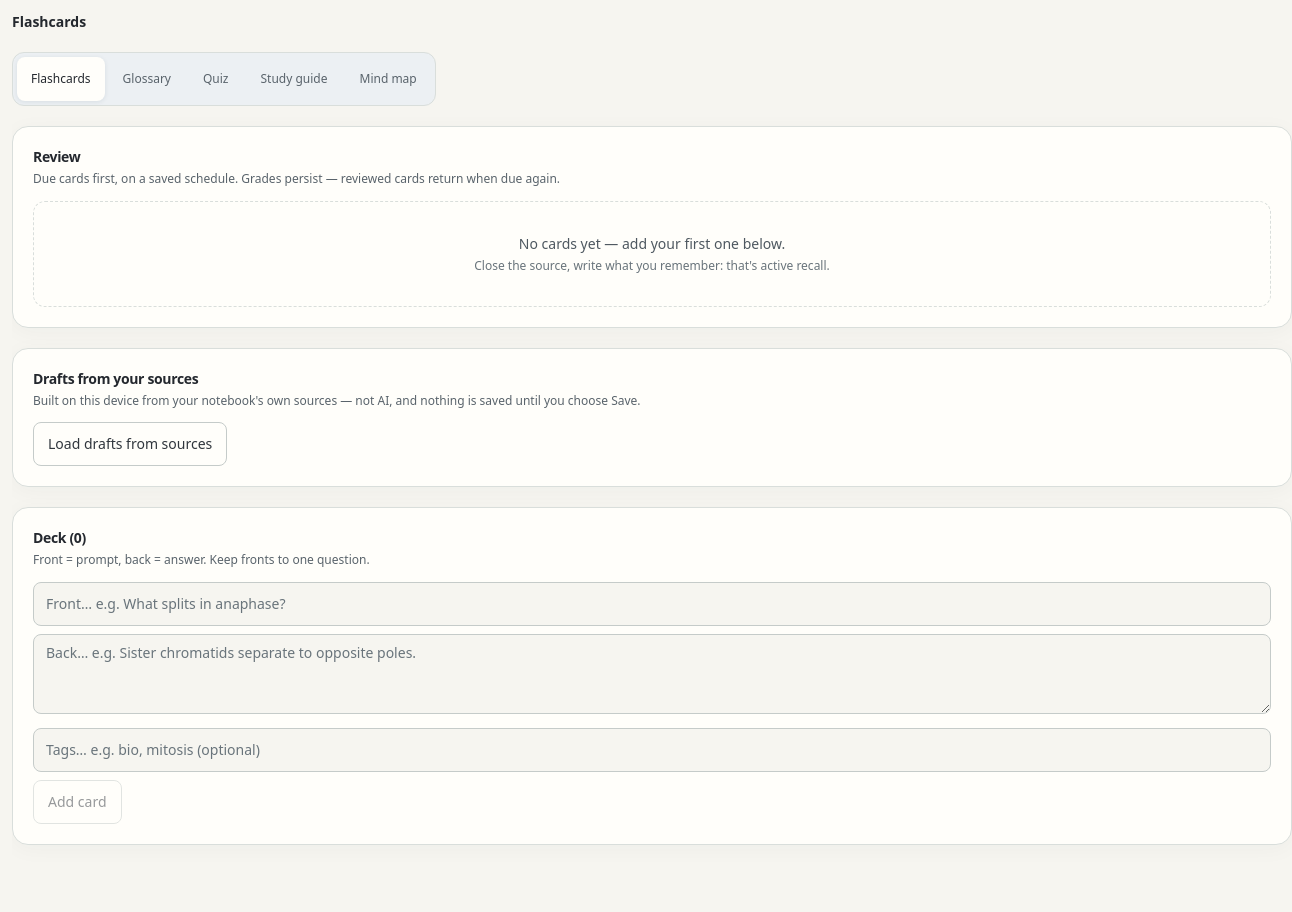
StudyPanel glossary + quiz slice › lazy-loads the glossary only after its tab is selected
This screenshot has width=1292, height=912.
Click the tab "Glossary": click(147, 79) [109, 57, 185, 101]
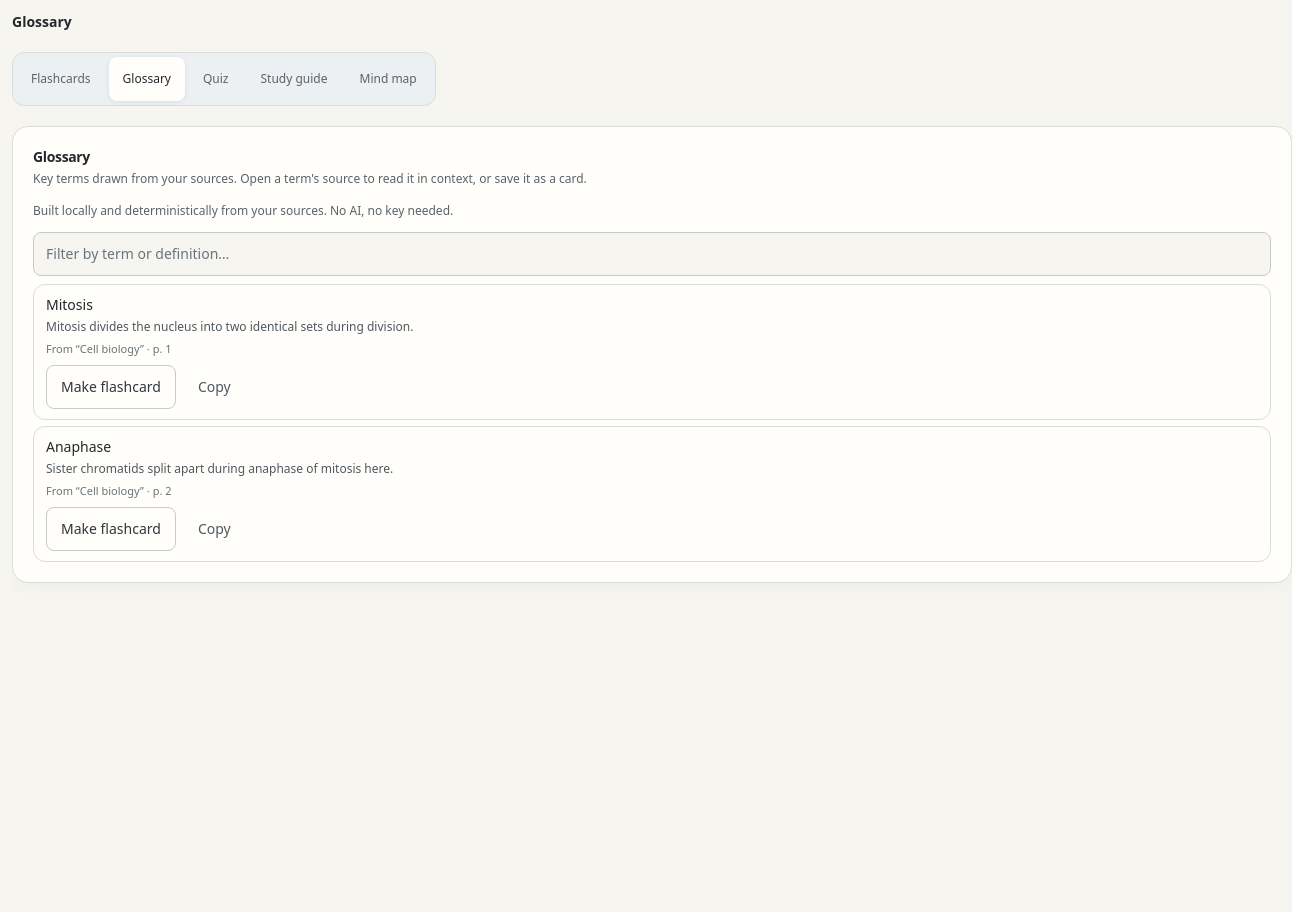
Expected: the text "Mitosis" is shown, [46, 295, 93, 314]
